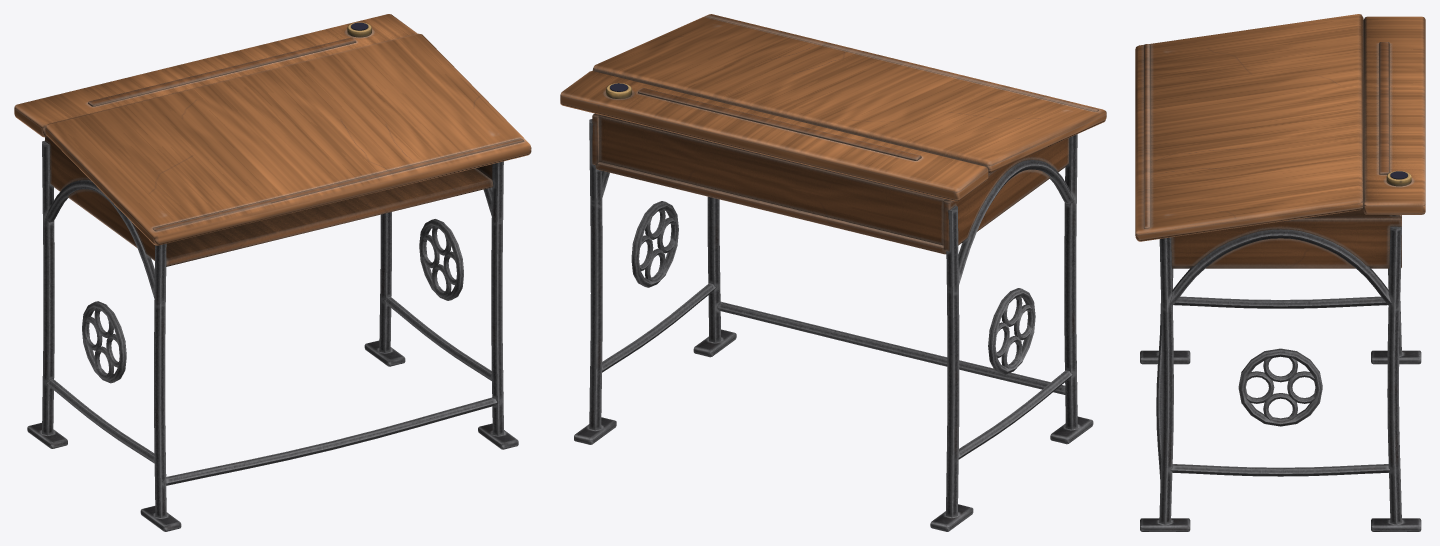
Rendered from StudentDesk.fbx.
3 views of the same model, side by side, from view 1: azimuth 30°, elevation 25°; view 2: azimuth 150°, elevation 25°; view 3: azimuth 270°, elevation 25° (orthographic). The views are drawn at different scales.
Visible parts, largest first — view 1: StudentDesk; view 2: StudentDesk; view 3: StudentDesk.
Part boxes in pixels (box(x1,y1,x2,y2)): StudentDesk: box(14, 14, 531, 531); StudentDesk: box(560, 14, 1106, 531); StudentDesk: box(1135, 14, 1425, 531).
Size of the model in its own units: 300 by 255 by 196.
